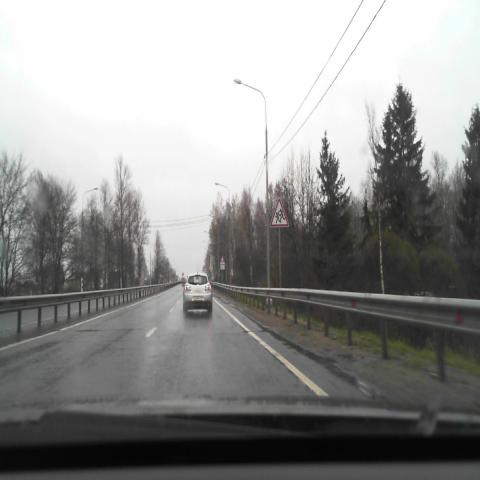1_23: (270, 197, 289, 227)
